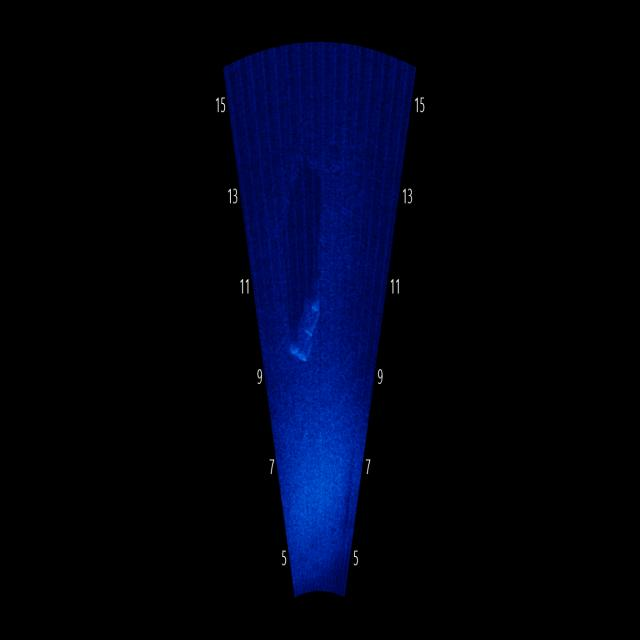square: (284, 273, 328, 378)
